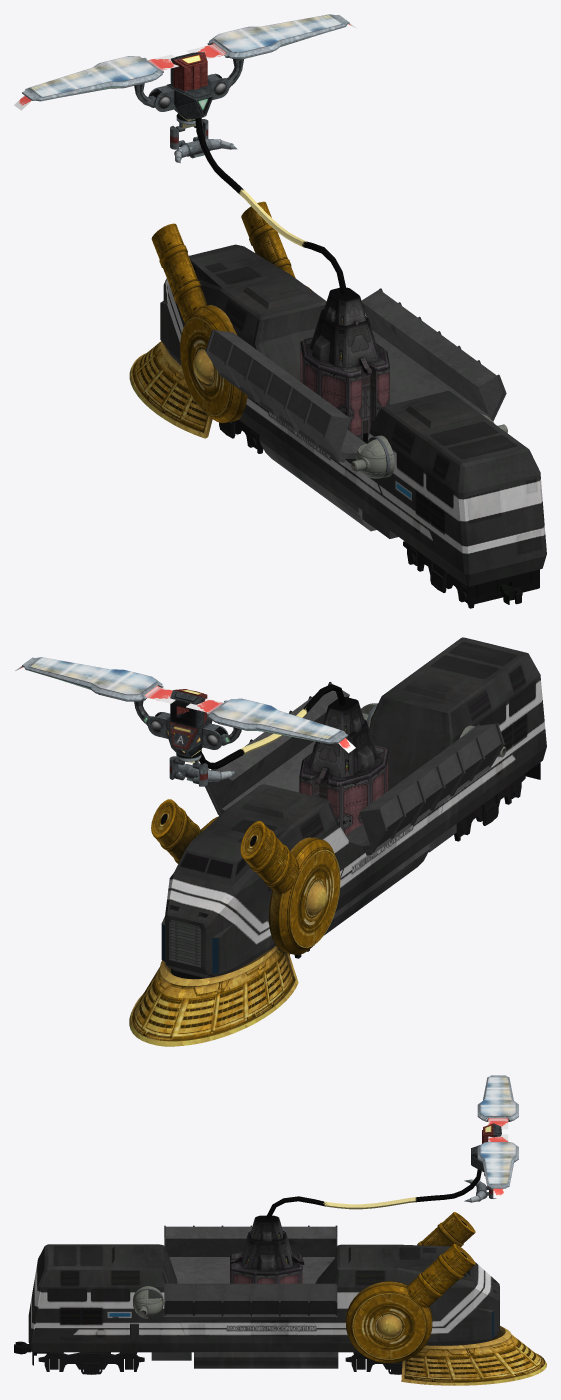
File: mechbeth.glb
3 views of the same model, one above another, from view 1: azimuth 30°, elevation 25°; view 2: azimuth 150°, elevation 25°; view 3: azimuth 270°, elevation 25° (orthographic). The views are drawn at different scales.
Visible parts, largest first — view 1: detail0, turret08, R_door, L_door, turret06-arms, turret07-arms, rotator, turret04-arms, turret03-base, turret02-arms, turret05-arms; view 2: detail0, L_door, turret08, R_door, turret06-arms, turret07-arms, rotator, turret03-base, turret04-arms, turret05-base, turret05-arms, L_wing; view 3: detail0, L_door, R_door, turret08, turret07-arms, turret06-arms, rotator, turret01-arms.
Boxes of the visible parts, x1=… form: detail0: x1=129, y1=201, x2=546, y2=608; turret08: x1=300, y1=287, x2=389, y2=443; R_door: x1=361, y1=288, x2=506, y2=421; L_door: x1=205, y1=329, x2=366, y2=462; turret06-arms: x1=14, y1=54, x2=178, y2=110; turret07-arms: x1=186, y1=14, x2=356, y2=59; rotator: x1=195, y1=118, x2=346, y2=294; turret04-arms: x1=170, y1=52, x2=207, y2=90; turret03-base: x1=167, y1=80, x2=212, y2=119; turret02-arms: x1=351, y1=439, x2=386, y2=478; turret05-arms: x1=174, y1=136, x2=237, y2=163; detail0: x1=129, y1=637, x2=546, y2=1046; L_door: x1=346, y1=723, x2=504, y2=855; turret08: x1=299, y1=697, x2=388, y2=835; R_door: x1=205, y1=682, x2=349, y2=815; turret06-arms: x1=186, y1=698, x2=355, y2=753; turret07-arms: x1=15, y1=657, x2=175, y2=703; rotator: x1=199, y1=684, x2=345, y2=769; turret03-base: x1=167, y1=713, x2=212, y2=757; turret04-arms: x1=170, y1=689, x2=207, y2=727; turret05-base: x1=169, y1=751, x2=207, y2=786; turret05-arms: x1=174, y1=764, x2=236, y2=784; L_wing: x1=200, y1=723, x2=228, y2=749; detail0: x1=14, y1=1212, x2=546, y2=1385; L_door: x1=164, y1=1225, x2=337, y2=1283; R_door: x1=163, y1=1283, x2=337, y2=1316; turret08: x1=230, y1=1215, x2=304, y2=1283; turret07-arms: x1=477, y1=1134, x2=518, y2=1198; turret06-arms: x1=477, y1=1075, x2=518, y2=1129; rotator: x1=266, y1=1169, x2=481, y2=1219; turret01-arms: x1=133, y1=1290, x2=162, y2=1318.
Size of the model in its own units: 25.58 by 24.08 by 48.32.
Materials: 8 (8 with a texture image).
